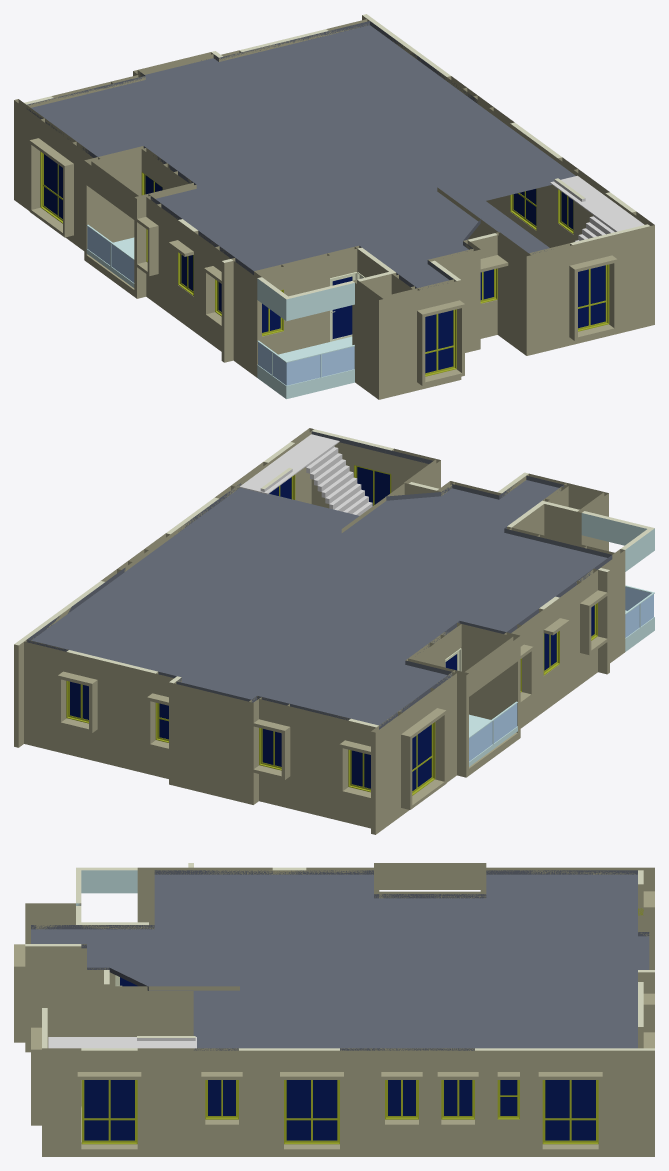
The model's file is apartment_single-floor-export.fbx.
3 renders of one model, top to bottom at view 1: azimuth 30°, elevation 25°; view 2: azimuth 150°, elevation 25°; view 3: azimuth 270°, elevation 25°, orthographic. The views are drawn at different scales.
Visible parts, largest first — view 1: building; view 2: building; view 3: building.
Boxes of the visible parts, left/top/right/bottom form: building: left=14, top=14, right=654, bottom=399; building: left=14, top=428, right=654, bottom=834; building: left=14, top=863, right=654, bottom=1156.
Size of the model in its own units: 14271 by 3669 by 20085.
